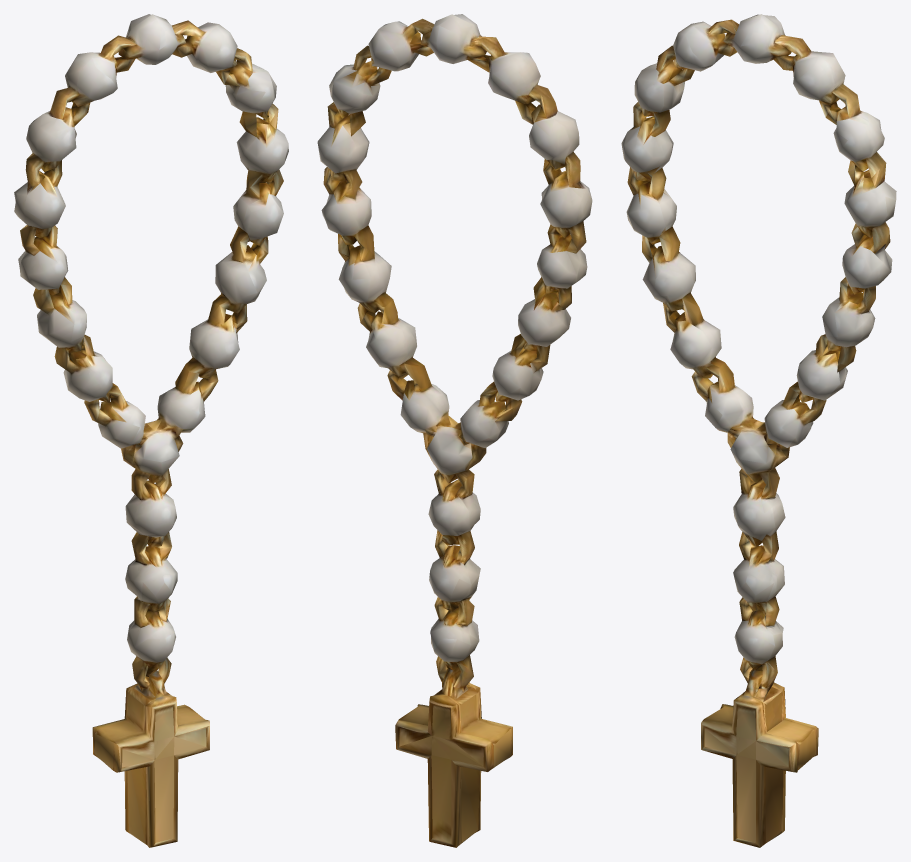
File: rosary.glb
3 renders of one model, left to right at view 1: azimuth 30°, elevation 25°; view 2: azimuth 150°, elevation 25°; view 3: azimuth 330°, elevation 25°, orthographic.
Parts seen in each view (by area): view 1: rosary; view 2: rosary; view 3: rosary.
Part boxes in pixels (<box>): rosary: <box>14,14,288,847</box>; rosary: <box>317,14,592,847</box>; rosary: <box>621,14,896,847</box>.
Bounding box in the file's own units: 0.3316 × 0.9817 × 0.0614.
1 material, 1 textured.
